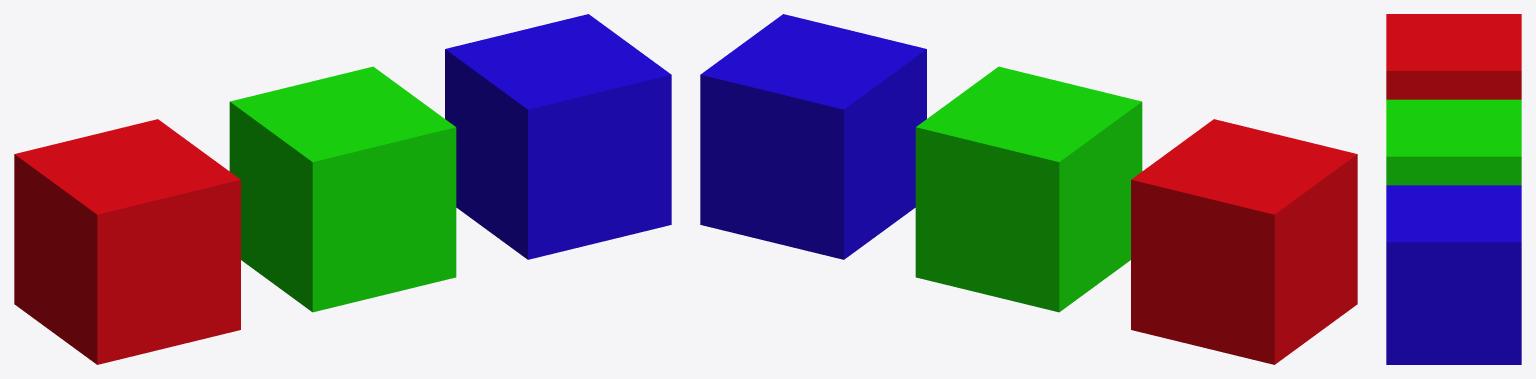
File: blenderScene.glb
3 views of the same model, side by side, from view 1: azimuth 30°, elevation 25°; view 2: azimuth 150°, elevation 25°; view 3: azimuth 270°, elevation 25° (orthographic). The views are drawn at different scales.
Parts seen in each view (by area): view 1: cubeRed, cubeGreen, cubeBlue; view 2: cubeRed, cubeGreen, cubeBlue; view 3: cubeBlue, cubeGreen, cubeRed.
Part boxes in pixels (x1=…): cubeRed: x1=14, y1=119, x2=240, y2=364; cubeGreen: x1=229, y1=66, x2=456, y2=312; cubeBlue: x1=445, y1=14, x2=671, y2=259; cubeRed: x1=1131, y1=119, x2=1357, y2=364; cubeGreen: x1=915, y1=66, x2=1142, y2=312; cubeBlue: x1=700, y1=14, x2=926, y2=259; cubeBlue: x1=1386, y1=185, x2=1521, y2=364; cubeGreen: x1=1386, y1=99, x2=1521, y2=185; cubeRed: x1=1386, y1=14, x2=1521, y2=99.
Size of what is drawn, in the model's own units: 4 by 1 by 1.
